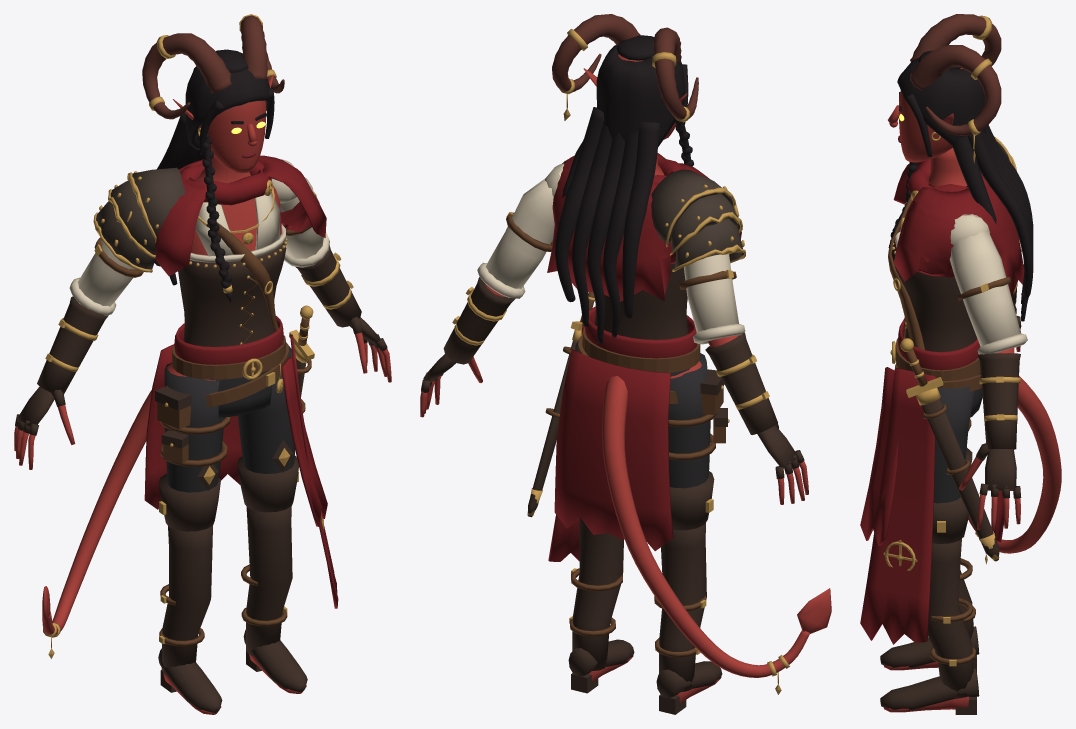
3 views of the same model, side by side, from view 1: azimuth 30°, elevation 25°; view 2: azimuth 150°, elevation 25°; view 3: azimuth 270°, elevation 25° (orthographic). The views are drawn at different scales.
Parts seen in each view (by area): view 1: alt_tiefling_rogue__OW_Armor_CrimsonRogue_01_Chest, alt_tiefling_rogue__OW_Armor_CrimsonRogue_01_Feet, alt_tiefling_rogue__OW_Char_TieflingRogue_01_Body_Head, alt_tiefling_rogue__OW_Armor_CrimsonRogue_01_Shoulders, alt_tiefling_rogue__OW_Armor_CrimsonRogue_01_Legs, alt_tiefling_rogue__OW_Armor_CrimsonRogue_01_Arms, alt_tiefling_rogue__OW_Char_TieflingRogue_01_Body_Tail, alt_tiefling_rogue__OW_Char_TieflingRogue_01_Body_Torso, alt_tiefling_rogue__OW_Armor_CrimsonRogue_01_Hands, alt_tiefling_rogue__OW_Char_TieflingRogue_01_Body_Hands, alt_tiefling_rogue__OW_Armor_CrimsonRogue_01_Weapon_Hip; view 2: alt_tiefling_rogue__OW_Armor_CrimsonRogue_01_Chest, alt_tiefling_rogue__OW_Char_TieflingRogue_01_Body_Head, alt_tiefling_rogue__OW_Armor_CrimsonRogue_01_Feet, alt_tiefling_rogue__OW_Armor_CrimsonRogue_01_Shoulders, alt_tiefling_rogue__OW_Char_TieflingRogue_01_Body_Tail, alt_tiefling_rogue__OW_Armor_CrimsonRogue_01_Arms, alt_tiefling_rogue__OW_Armor_CrimsonRogue_01_Legs, alt_tiefling_rogue__OW_Armor_CrimsonRogue_01_Weapon_Hip, alt_tiefling_rogue__OW_Armor_CrimsonRogue_01_Hands, alt_tiefling_rogue__OW_Char_TieflingRogue_01_Body_Hands; view 3: alt_tiefling_rogue__OW_Armor_CrimsonRogue_01_Chest, alt_tiefling_rogue__OW_Char_TieflingRogue_01_Body_Head, alt_tiefling_rogue__OW_Armor_CrimsonRogue_01_Feet, alt_tiefling_rogue__OW_Armor_CrimsonRogue_01_Shoulders, alt_tiefling_rogue__OW_Armor_CrimsonRogue_01_Weapon_Hip, alt_tiefling_rogue__OW_Char_TieflingRogue_01_Body_Tail, alt_tiefling_rogue__OW_Armor_CrimsonRogue_01_Arms, alt_tiefling_rogue__OW_Armor_CrimsonRogue_01_Legs, alt_tiefling_rogue__OW_Armor_CrimsonRogue_01_Hands, alt_tiefling_rogue__OW_Char_TieflingRogue_01_Body_Torso, alt_tiefling_rogue__OW_Char_TieflingRogue_01_Body_Hands, alt_tiefling_rogue__OW_Char_TieflingRogue_01_Body_Feet.
Boxes of the visible parts, x1=… form: alt_tiefling_rogue__OW_Armor_CrimsonRogue_01_Chest: x1=69, y1=159, x2=338, y2=608; alt_tiefling_rogue__OW_Armor_CrimsonRogue_01_Feet: x1=158, y1=455, x2=307, y2=712; alt_tiefling_rogue__OW_Char_TieflingRogue_01_Body_Head: x1=142, y1=14, x2=284, y2=302; alt_tiefling_rogue__OW_Armor_CrimsonRogue_01_Shoulders: x1=93, y1=155, x2=326, y2=277; alt_tiefling_rogue__OW_Armor_CrimsonRogue_01_Legs: x1=160, y1=346, x2=294, y2=492; alt_tiefling_rogue__OW_Armor_CrimsonRogue_01_Arms: x1=37, y1=245, x2=361, y2=394; alt_tiefling_rogue__OW_Char_TieflingRogue_01_Body_Tail: x1=42, y1=390, x2=151, y2=658; alt_tiefling_rogue__OW_Char_TieflingRogue_01_Body_Torso: x1=190, y1=156, x2=281, y2=260; alt_tiefling_rogue__OW_Armor_CrimsonRogue_01_Hands: x1=15, y1=316, x2=387, y2=435; alt_tiefling_rogue__OW_Char_TieflingRogue_01_Body_Hands: x1=14, y1=332, x2=391, y2=469; alt_tiefling_rogue__OW_Armor_CrimsonRogue_01_Weapon_Hip: x1=289, y1=305, x2=314, y2=413; alt_tiefling_rogue__OW_Armor_CrimsonRogue_01_Chest: x1=477, y1=163, x2=745, y2=561; alt_tiefling_rogue__OW_Char_TieflingRogue_01_Body_Head: x1=552, y1=14, x2=698, y2=343; alt_tiefling_rogue__OW_Armor_CrimsonRogue_01_Feet: x1=568, y1=471, x2=722, y2=714; alt_tiefling_rogue__OW_Armor_CrimsonRogue_01_Shoulders: x1=547, y1=153, x2=745, y2=301; alt_tiefling_rogue__OW_Char_TieflingRogue_01_Body_Tail: x1=602, y1=376, x2=831, y2=694; alt_tiefling_rogue__OW_Armor_CrimsonRogue_01_Arms: x1=443, y1=276, x2=777, y2=434; alt_tiefling_rogue__OW_Armor_CrimsonRogue_01_Legs: x1=575, y1=340, x2=729, y2=488; alt_tiefling_rogue__OW_Armor_CrimsonRogue_01_Weapon_Hip: x1=527, y1=292, x2=595, y2=517; alt_tiefling_rogue__OW_Armor_CrimsonRogue_01_Hands: x1=421, y1=354, x2=804, y2=478; alt_tiefling_rogue__OW_Char_TieflingRogue_01_Body_Hands: x1=420, y1=356, x2=808, y2=504; alt_tiefling_rogue__OW_Armor_CrimsonRogue_01_Chest: x1=860, y1=194, x2=1027, y2=644; alt_tiefling_rogue__OW_Char_TieflingRogue_01_Body_Head: x1=888, y1=14, x2=1033, y2=321; alt_tiefling_rogue__OW_Armor_CrimsonRogue_01_Feet: x1=880, y1=447, x2=979, y2=714; alt_tiefling_rogue__OW_Armor_CrimsonRogue_01_Shoulders: x1=893, y1=136, x2=1024, y2=296; alt_tiefling_rogue__OW_Armor_CrimsonRogue_01_Weapon_Hip: x1=900, y1=338, x2=999, y2=561; alt_tiefling_rogue__OW_Char_TieflingRogue_01_Body_Tail: x1=968, y1=376, x2=1061, y2=564; alt_tiefling_rogue__OW_Armor_CrimsonRogue_01_Arms: x1=978, y1=282, x2=1020, y2=449; alt_tiefling_rogue__OW_Armor_CrimsonRogue_01_Legs: x1=934, y1=372, x2=982, y2=503; alt_tiefling_rogue__OW_Armor_CrimsonRogue_01_Hands: x1=976, y1=305, x2=1021, y2=498; alt_tiefling_rogue__OW_Char_TieflingRogue_01_Body_Torso: x1=900, y1=148, x2=967, y2=279; alt_tiefling_rogue__OW_Char_TieflingRogue_01_Body_Hands: x1=959, y1=328, x2=1020, y2=531; alt_tiefling_rogue__OW_Char_TieflingRogue_01_Body_Feet: x1=883, y1=661, x2=969, y2=712.
Size of the model in its own units: 1.16 by 1.97 by 0.5441.
